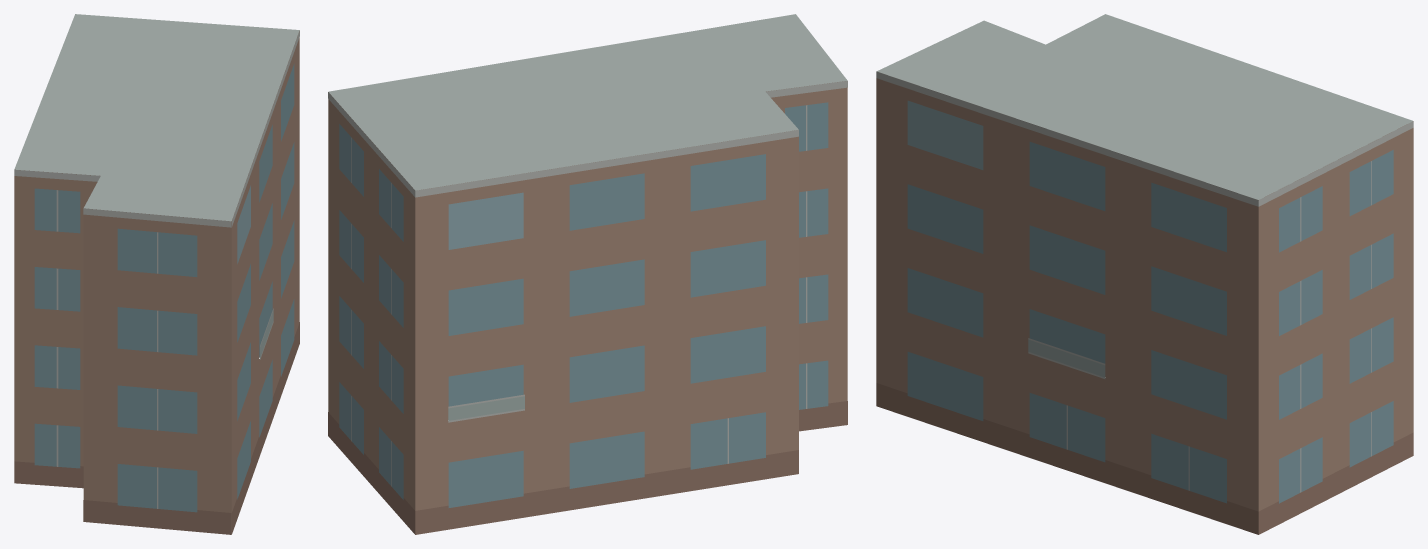
The model's file is survey-upis-32967801.glb.
3 views of the same model, side by side, from view 1: azimuth 30°, elevation 25°; view 2: azimuth 150°, elevation 25°; view 3: azimuth 270°, elevation 25° (orthographic). The views are drawn at different scales.
Parts seen in each view (by area): view 1: survey-upis-32967801.tmp; view 2: survey-upis-32967801.tmp; view 3: survey-upis-32967801.tmp.
Boxes of the visible parts, x1,y1,x2,y2 form: survey-upis-32967801.tmp: [14, 14, 299, 534]; survey-upis-32967801.tmp: [328, 14, 847, 534]; survey-upis-32967801.tmp: [876, 14, 1413, 534].
Bounding box in the file's own units: 14.55 × 12.2 × 17.75.
